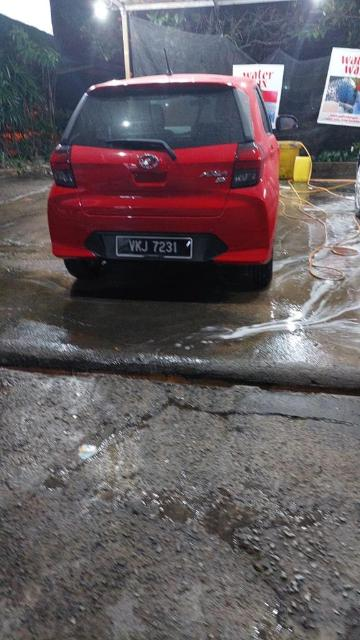License_Plate: (115, 233, 193, 261)
car: (48, 70, 301, 284)
